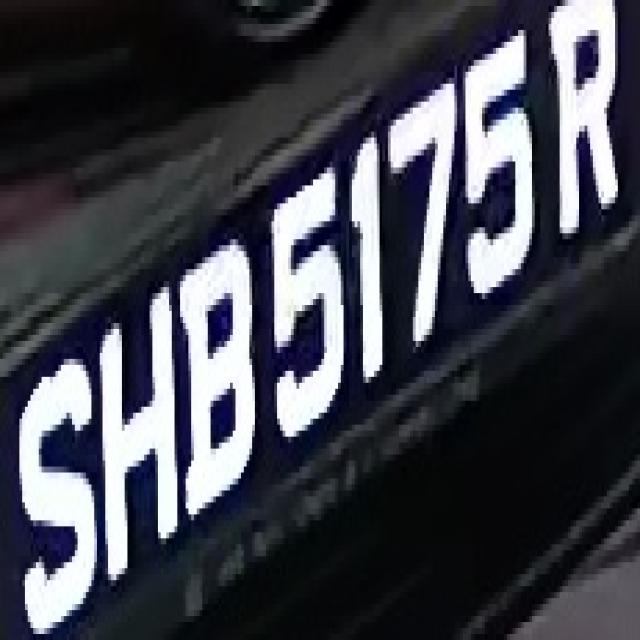1: (346, 101, 385, 406)
5: (258, 156, 349, 442), (452, 30, 540, 305)
7: (388, 72, 457, 353)
B: (169, 228, 258, 520)
H: (89, 275, 188, 586)
R: (546, 12, 629, 233)
S: (14, 347, 100, 616)
